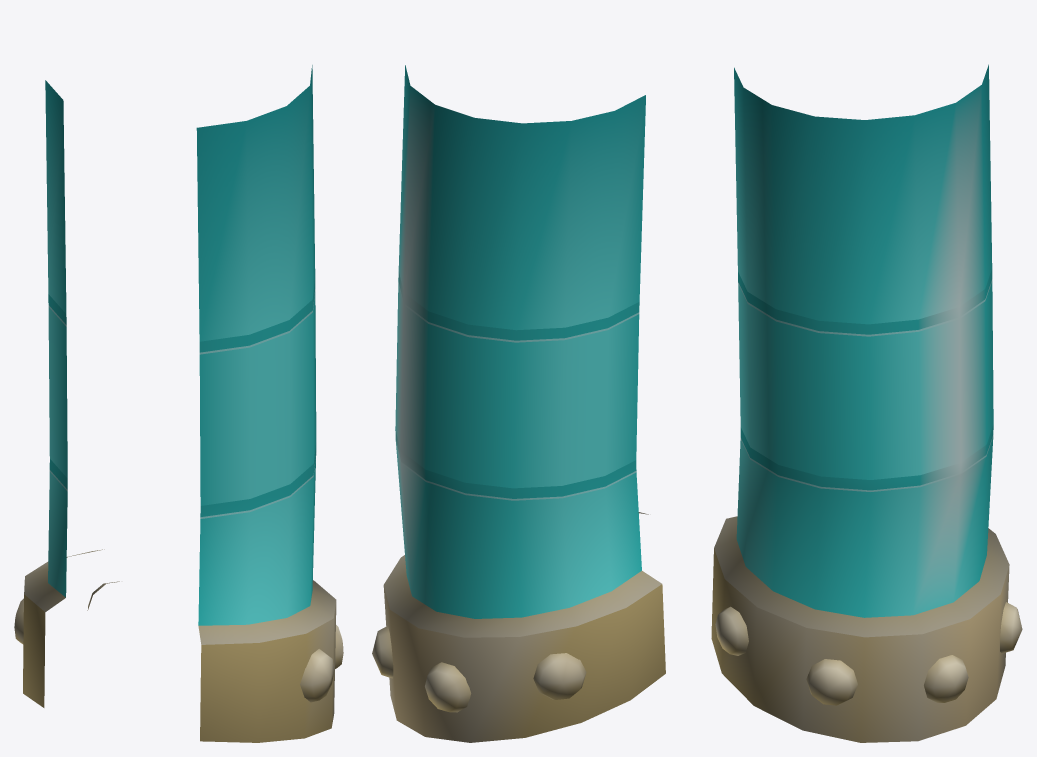
Rendered from ExchangeTube.glb.
3 views of the same model, side by side, from view 1: azimuth 30°, elevation 25°; view 2: azimuth 150°, elevation 25°; view 3: azimuth 270°, elevation 25° (orthographic). The views are drawn at different scales.
Visible parts, largest first — view 1: ExchangeTube; view 2: ExchangeTube; view 3: ExchangeTube.
Part boxes in pixels (x1,y1,x2,y2): ExchangeTube: (14,65,343,742); ExchangeTube: (372,65,665,742); ExchangeTube: (711,64,1022,742).
Size of the model in its own units: 0.4206 by 0.9423 by 0.4285.
